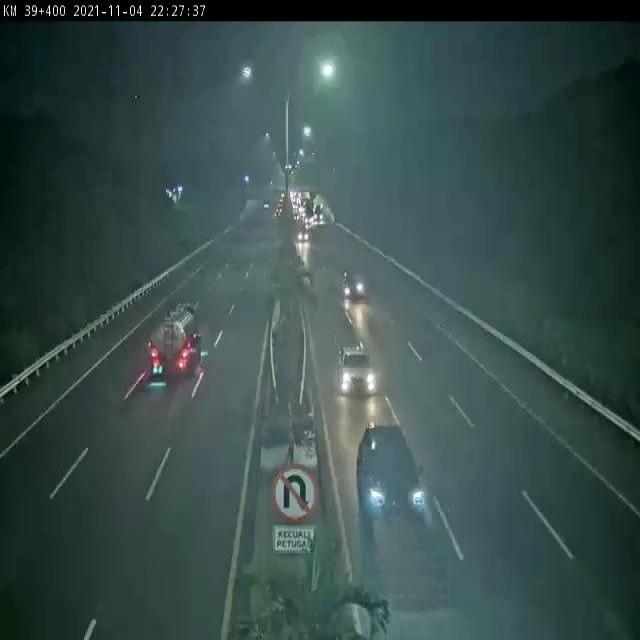car: (358, 425, 421, 516), (339, 344, 376, 396), (340, 269, 365, 299)
truck-l-: (151, 304, 198, 375)
